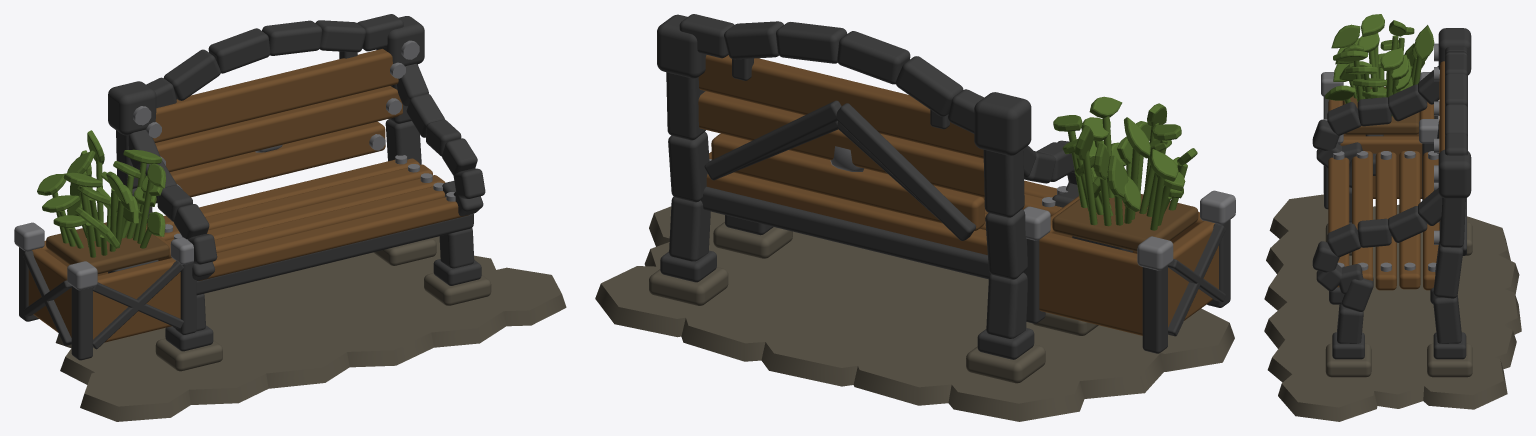
File: garden-bench.glb
3 renders of one model, left to right at view 1: azimuth 30°, elevation 25°; view 2: azimuth 150°, elevation 25°; view 3: azimuth 270°, elevation 25°, orthographic. The views are drawn at different scales.
Visible parts, largest first — view 1: garden-bench-farm-wood-shadow, garden-bench-farm-stone-dark, garden-bench-farm-roof-slate, garden-bench-farm-leaf, garden-bench-farm-metal, garden-bench-farm-soil; view 2: garden-bench-farm-stone-dark, garden-bench-farm-roof-slate, garden-bench-farm-wood-shadow, garden-bench-farm-leaf, garden-bench-farm-soil, garden-bench-farm-metal; view 3: garden-bench-farm-stone-dark, garden-bench-farm-roof-slate, garden-bench-farm-wood-shadow, garden-bench-farm-leaf, garden-bench-farm-metal, garden-bench-farm-soil.
Part boxes in pixels (x1,y1,x2,y2): garden-bench-farm-wood-shadow: (28, 48, 469, 342); garden-bench-farm-stone-dark: (55, 236, 566, 421); garden-bench-farm-roof-slate: (19, 14, 485, 360); garden-bench-farm-leaf: (37, 130, 166, 257); garden-bench-farm-metal: (14, 40, 455, 290); garden-bench-farm-soil: (46, 222, 169, 274); garden-bench-farm-stone-dark: (595, 206, 1234, 421); garden-bench-farm-roof-slate: (657, 14, 1230, 359); garden-bench-farm-wood-shadow: (698, 55, 1218, 335); garden-bench-farm-leaf: (1053, 96, 1197, 230); garden-bench-farm-soil: (1052, 194, 1198, 251); garden-bench-farm-metal: (709, 146, 1235, 270); garden-bench-farm-stone-dark: (1264, 194, 1521, 421); garden-bench-farm-roof-slate: (1312, 28, 1471, 359); garden-bench-farm-wood-shadow: (1328, 61, 1444, 290); garden-bench-farm-leaf: (1325, 14, 1434, 116); garden-bench-farm-metal: (1321, 43, 1439, 271); garden-bench-farm-soil: (1343, 87, 1419, 134).
Bounding box in the file's own units: 3.21 × 1.67 × 1.58.
